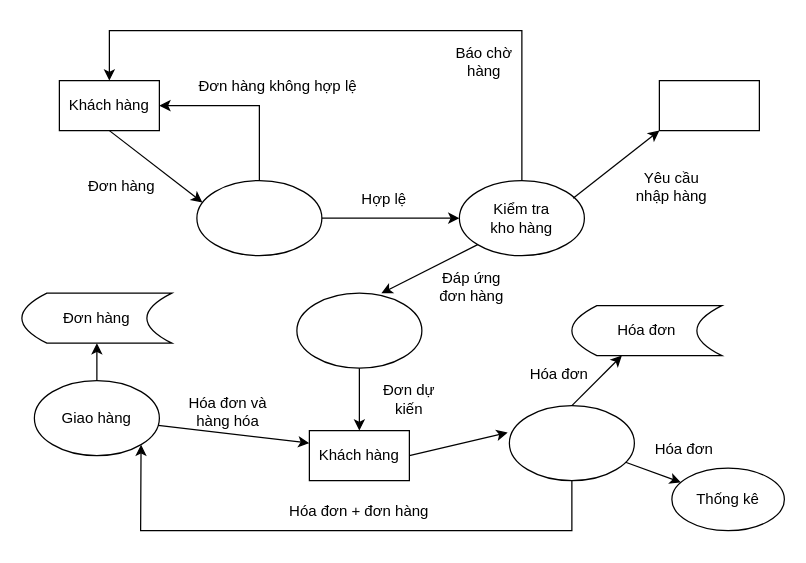
Some shapes in this 806 by 563 pixel diagram are drawn without their labels. The shapes that lost their labels are listed below. From the top down, each one's box as (x1, y1, x2, y2) in pixels, then its label:
(658, 79, 759, 131): Quản lý
(196, 179, 322, 256): Kiểm tra đơn hàng
(296, 292, 422, 368): Lập phiếu cho đơn dự kiến
(508, 404, 634, 481): Thu tiền và lập hóa đơn
